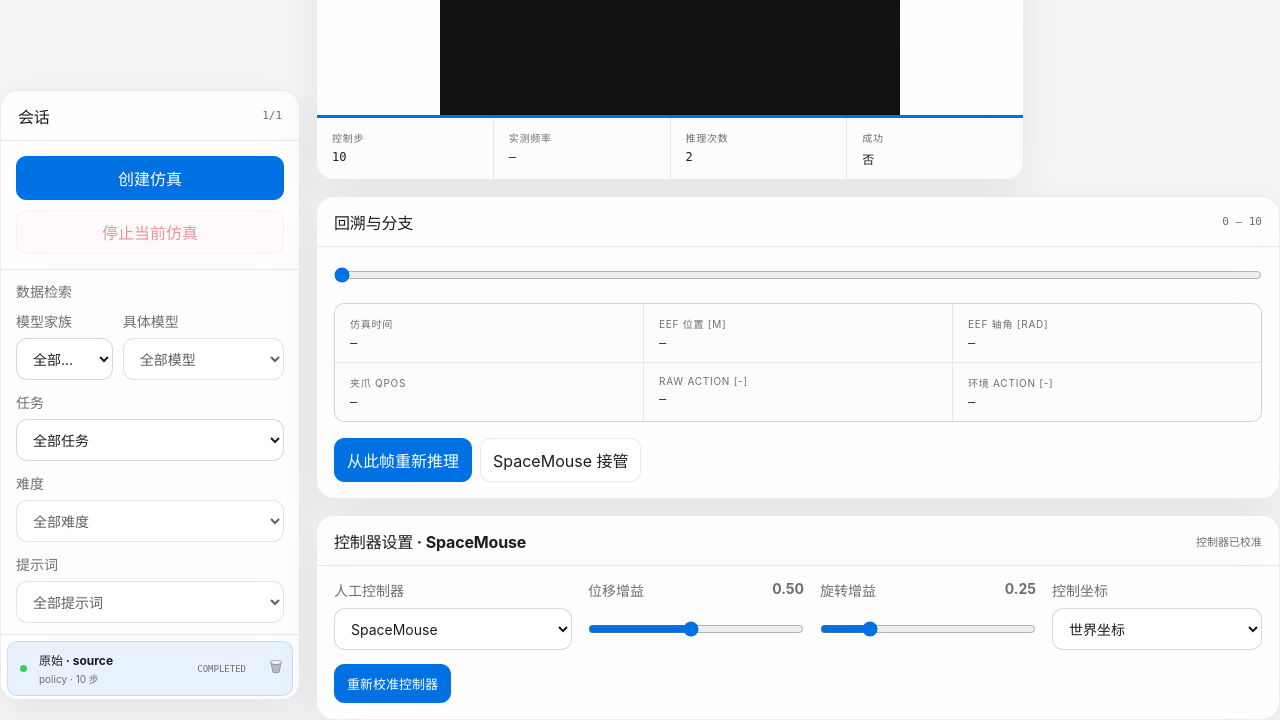
Test: collection controller integration › shows missing historical model as WARN without falling back to base
(page scrolled)
What coordinates should you click on to do the following:
click the button "从此帧重新推理"
I would click on:
 (403, 460)
Its box is [334,438,472,482].
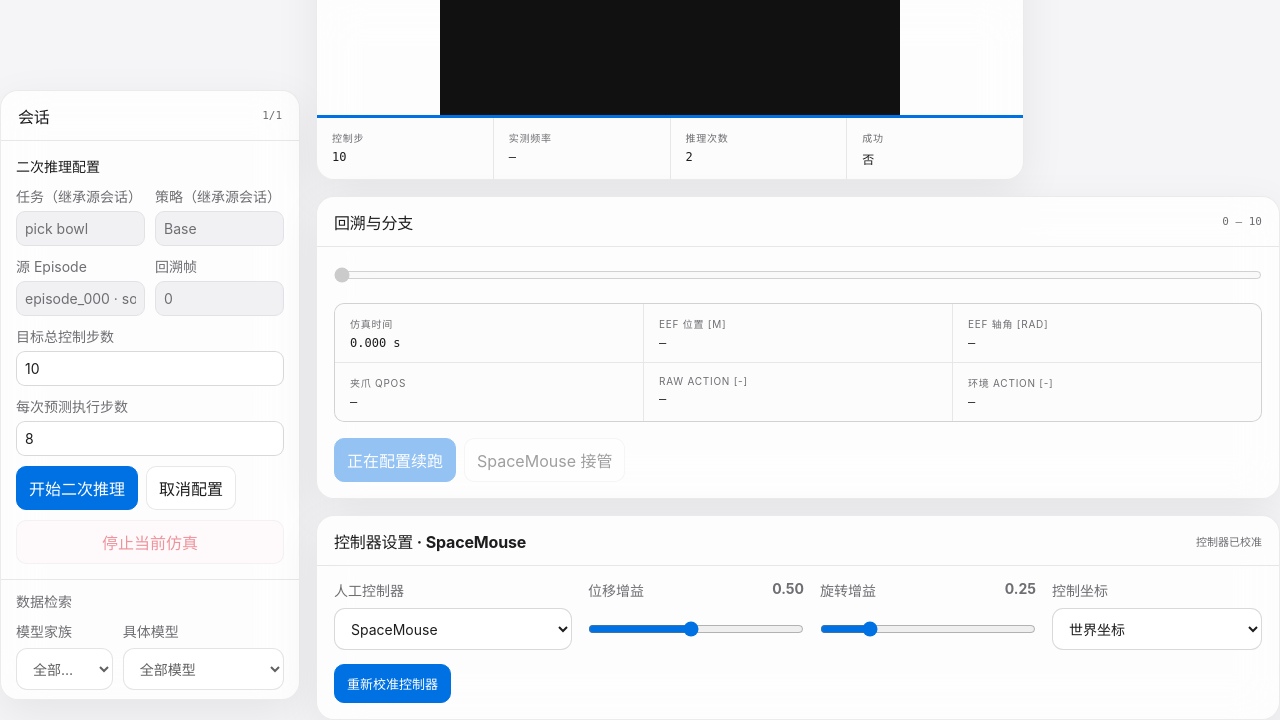
What coordinates should you click on to do the following:
click the button "开始二次推理"
I would click on:
 (77, 488)
Its box is [16,466,138,510].
(page scrolled)
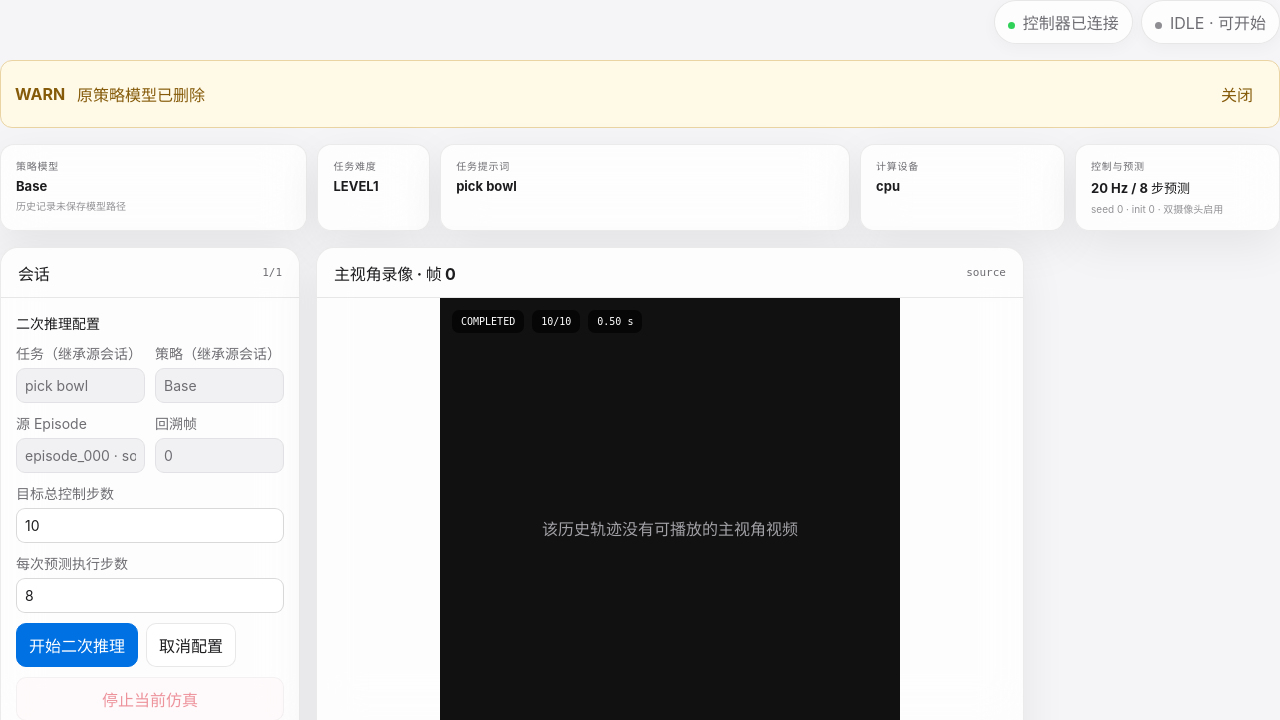
Expected: the message shows "WARN", [15,84,65,104]
Expected: the message shows "原策略模型已删除", [77,85,205,105]
